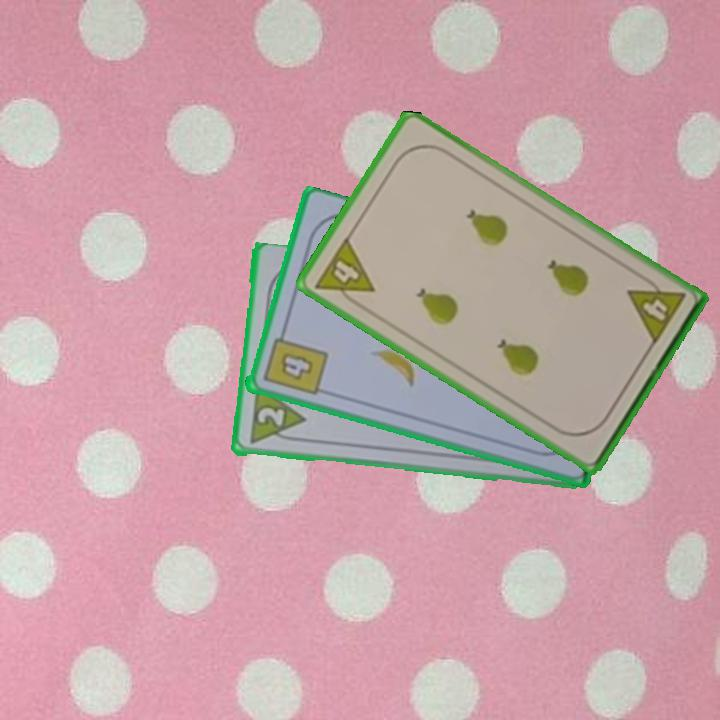2p: (253, 404, 288, 429)
4b: (259, 325, 330, 399)
4p: (310, 233, 378, 312), (623, 270, 688, 348)
